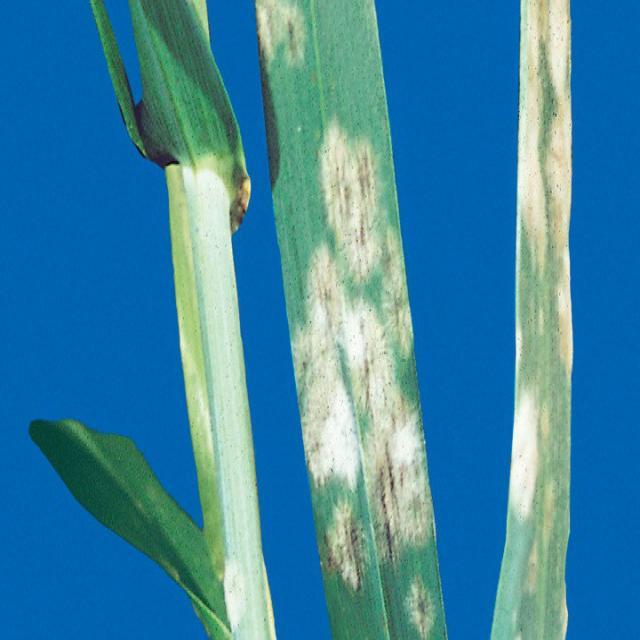wheat-powdery-mildew: (292, 117, 433, 597), (489, 0, 578, 640), (165, 166, 277, 640), (256, 1, 309, 73)
